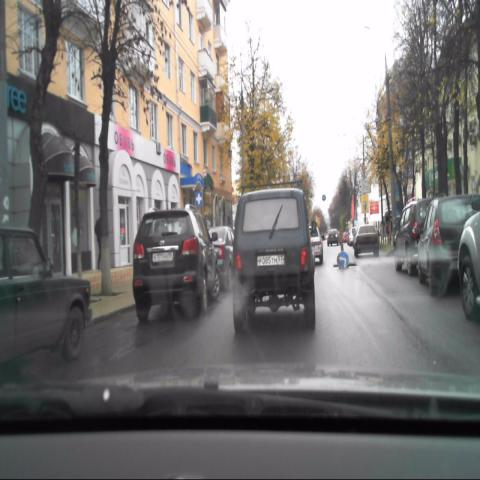4_1_3: (336, 251, 349, 270)
